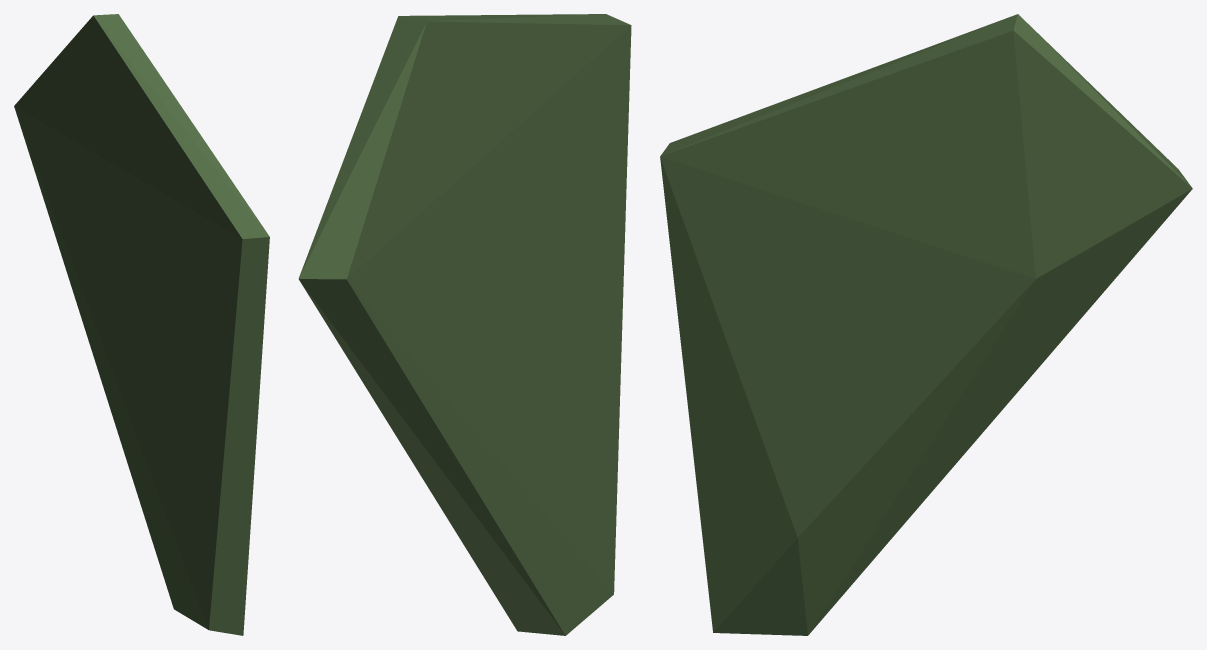
The model's file is CactusFlowers_5.lod4.glb.
The picture shows the model from 3 angles, left to right: view 1: azimuth 30°, elevation 25°; view 2: azimuth 150°, elevation 25°; view 3: azimuth 270°, elevation 25°; orthographic projection. The views are drawn at different scales.
Visible parts, largest first — view 1: CactusFlowers_5; view 2: CactusFlowers_5; view 3: CactusFlowers_5.
Part boxes in pixels (x1,y1,x2,y2): CactusFlowers_5: (14, 14, 269, 635); CactusFlowers_5: (298, 14, 631, 635); CactusFlowers_5: (660, 14, 1192, 635).
Size of the model in its own units: 0.1003 by 0.9266 by 0.7348.
